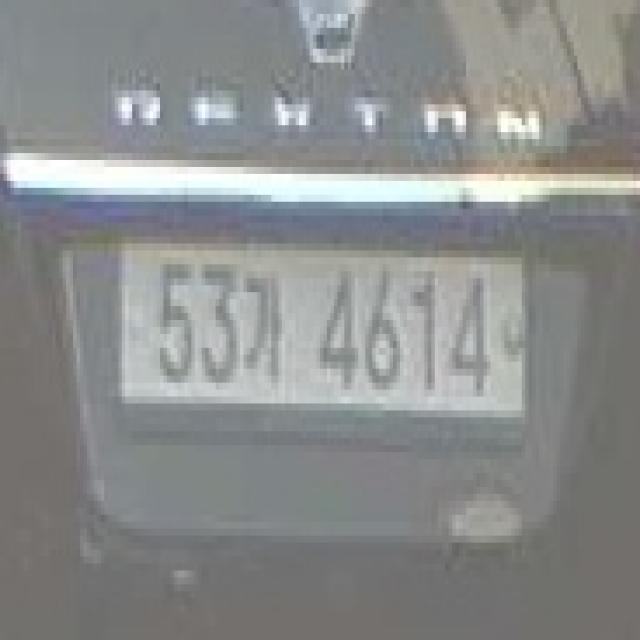1: (407, 264, 452, 396)
3: (192, 243, 250, 389)
4: (317, 258, 365, 397), (449, 264, 497, 396)
5: (160, 250, 198, 382)
6: (362, 250, 407, 390)
ga: (237, 264, 292, 383)
license_plate: (115, 230, 539, 431)
